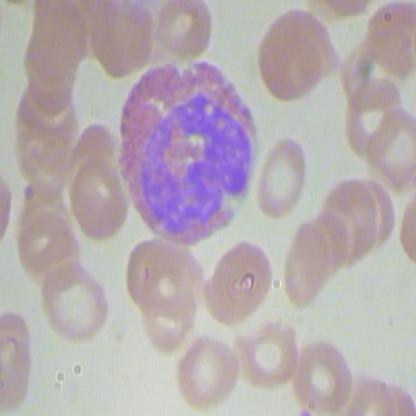RBC: (251, 3, 334, 106), (36, 257, 116, 348), (199, 237, 278, 329), (233, 315, 303, 397), (173, 334, 242, 415), (276, 218, 333, 315), (68, 153, 130, 242), (252, 136, 311, 227), (292, 337, 352, 415), (150, 1, 215, 62)
WBC: (111, 49, 267, 251)
